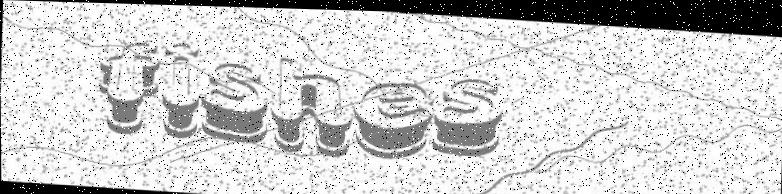e: (351, 70, 435, 157)
f: (94, 36, 164, 135)
h: (271, 53, 354, 157)
i: (159, 35, 204, 141)
s: (200, 56, 274, 147), (430, 68, 505, 155)
